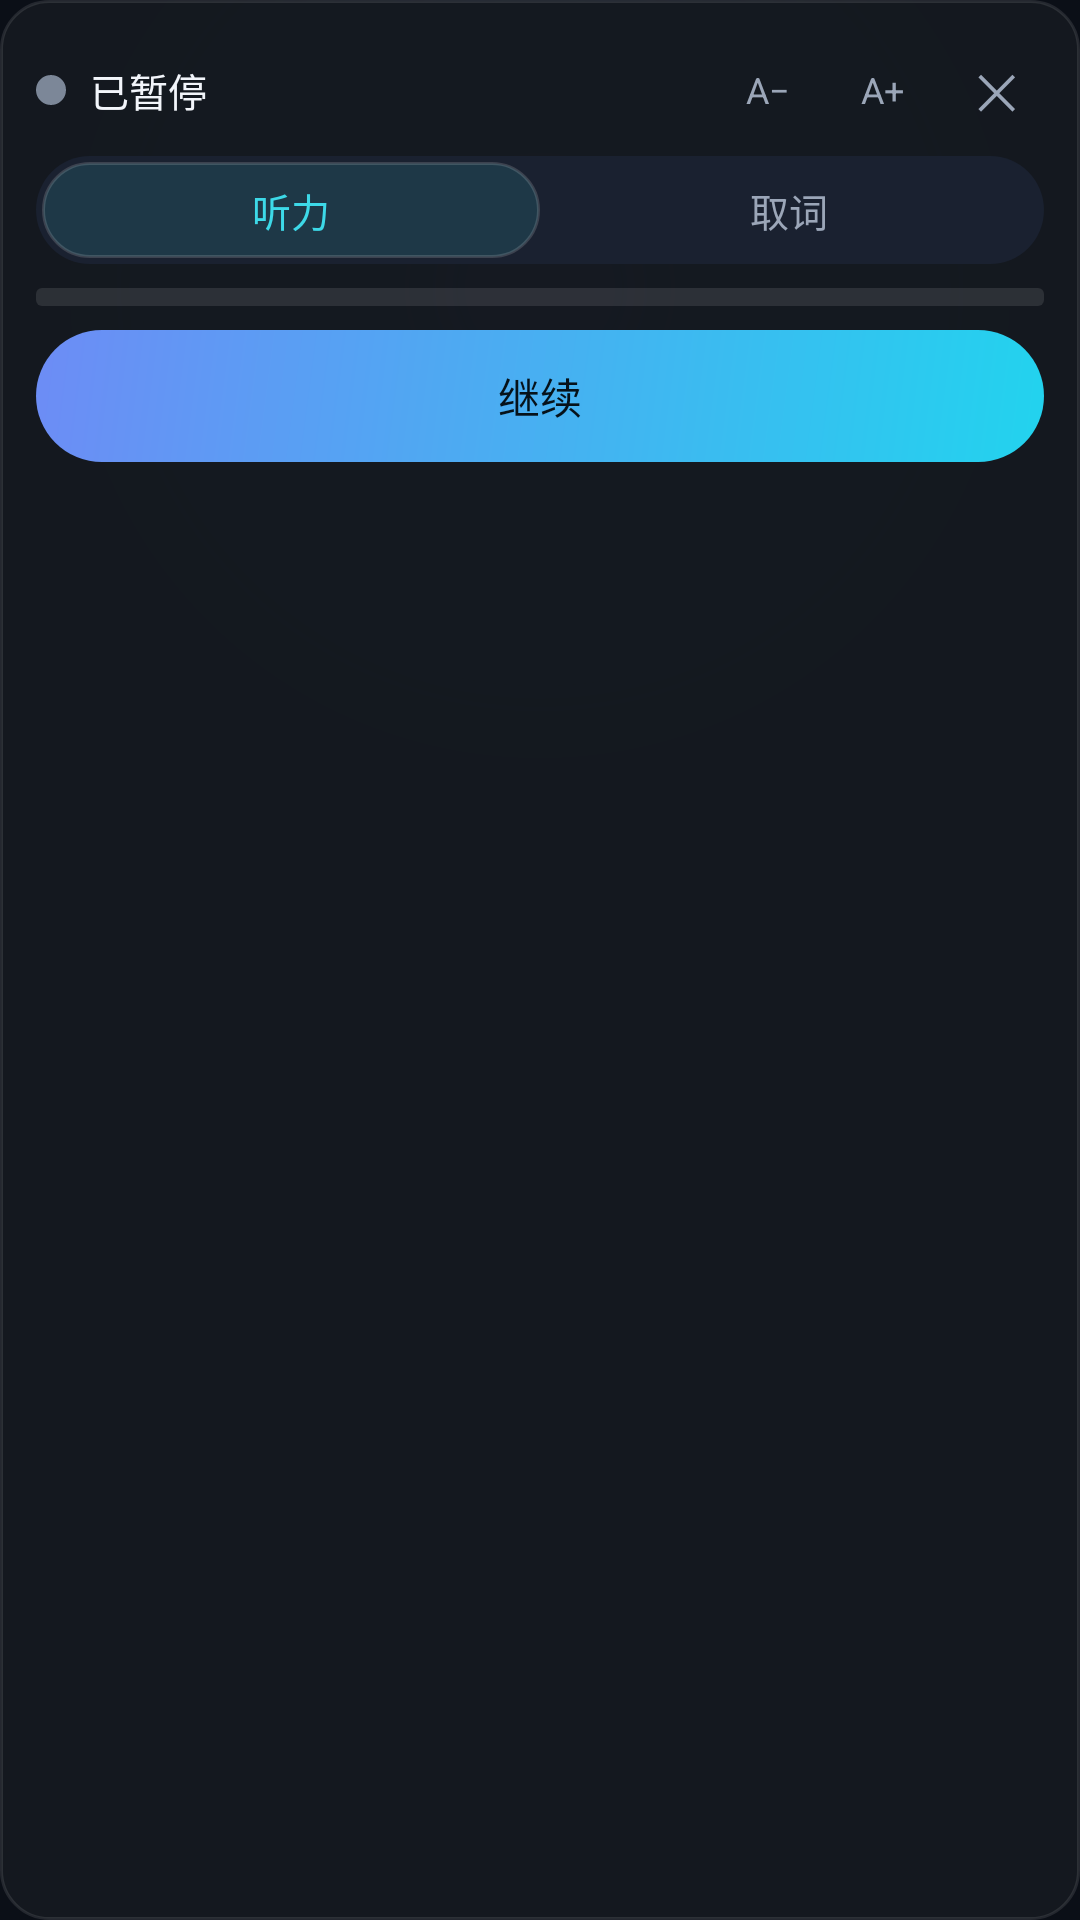

Named icons in this screenshot (1080 x 1920) and their centers, (x=x, y=y):
dot idle: (x=51, y=90)
